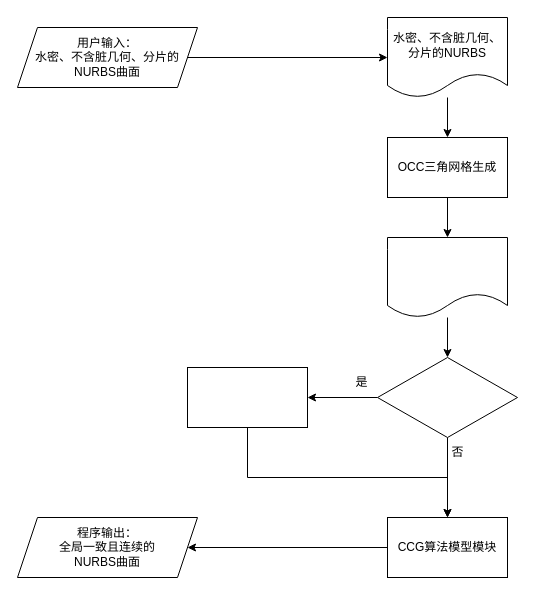
The diagram is 535 pixels wide and 595 high, and some of its shapes have lost their labels. The shapes that lost their labels are listed below. From the top down, each one's centre as x and y in pixels, then its label:
At (x=447, y=277): "三角网格".
At (x=247, y=397): "奇异点添加模块".
At (x=447, y=397): "是否手动添加奇异点".
